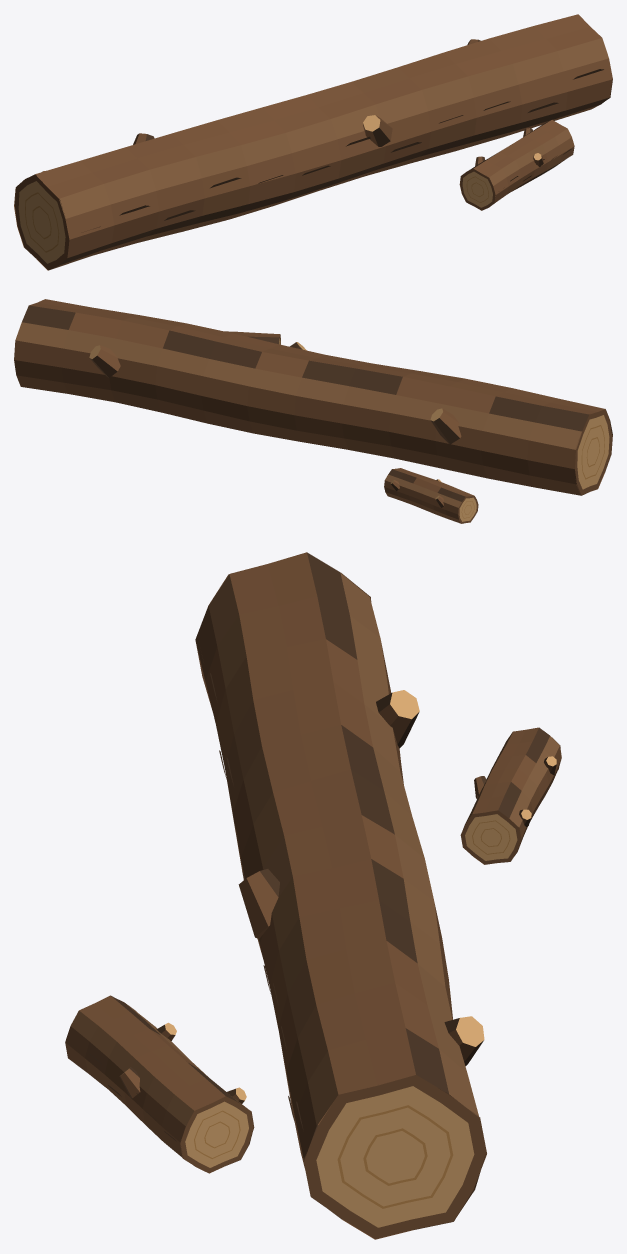
Rendered from log_three_lane_A.glb.
3 renders of one model, top to bottom at view 1: azimuth 30°, elevation 25°; view 2: azimuth 150°, elevation 25°; view 3: azimuth 270°, elevation 25°, orthographic. The views are drawn at different scales.
Visible parts, largest first — view 1: log_three_lane_A; view 2: log_three_lane_A; view 3: log_three_lane_A.
Boxes of the visible parts, x1,y1,x2,y2 form: log_three_lane_A: (14,14,612,270); log_three_lane_A: (14,299,612,523); log_three_lane_A: (65,552,561,1239).
Bounding box in the file's own units: 7.26 × 1.11 × 2.89.
